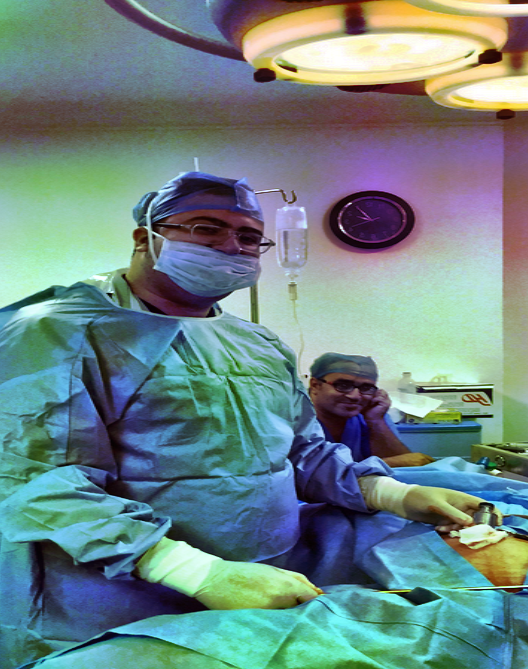mask_weared_incorrect: (131, 176, 283, 302)
